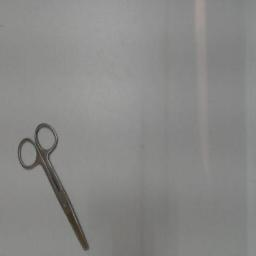Dressing Scissors: (12, 116, 94, 254)
